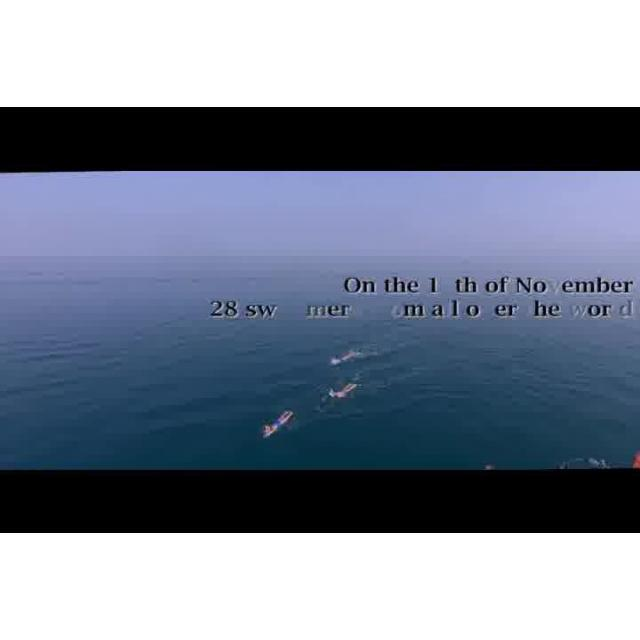human: (266, 407, 295, 439), (324, 383, 356, 403), (332, 347, 354, 371)
